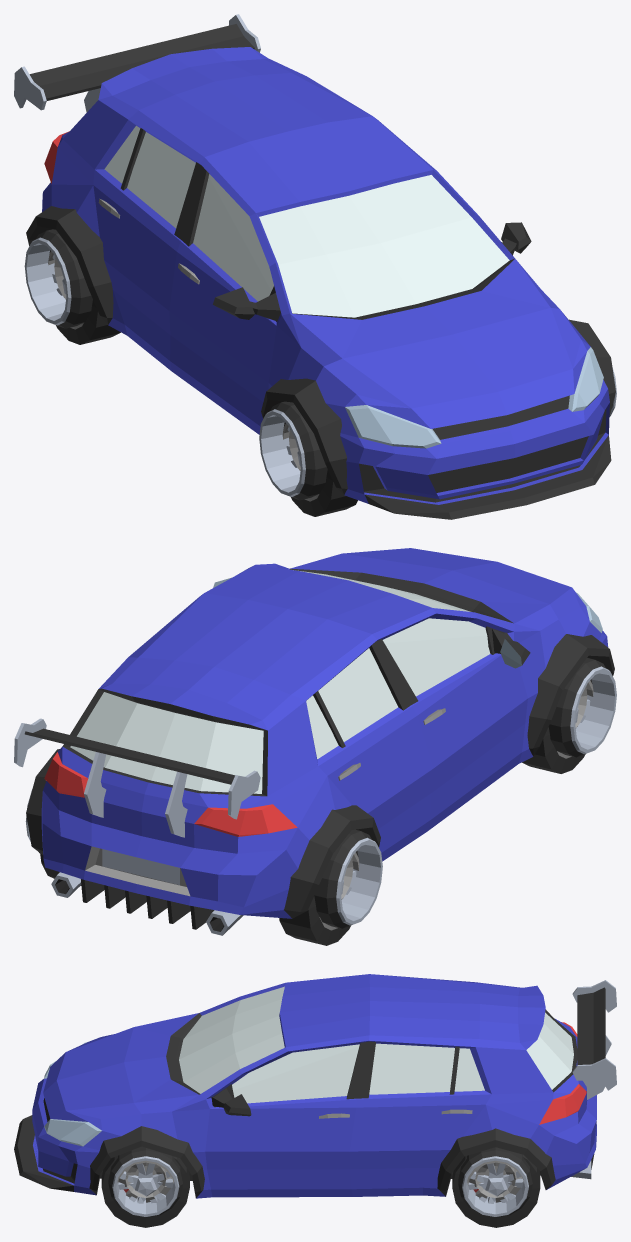
Rendered from golf.fbx.
The picture shows the model from 3 angles, top to bottom: view 1: azimuth 30°, elevation 25°; view 2: azimuth 150°, elevation 25°; view 3: azimuth 270°, elevation 25°; orthographic projection. The views are drawn at different scales.
Parts seen in each view (by area): view 1: golf_body, golf_tuning_1, golf_tuning_wheel_FR, golf_tuning_wheel_RR, golf_wheel_FR, golf_wheel_RR; view 2: golf_body, golf_tuning_1, golf_tuning_wheel_RR, golf_tuning_wheel_FR, golf_wheel_RR, golf_wheel_FR; view 3: golf_body, golf_tuning_1, golf_tuning_wheel_RL, golf_tuning_wheel_FL, golf_wheel_FL, golf_wheel_LR.
Boxes of the visible parts, box(x1,y1,x2,y2) form: golf_body: box(42, 47, 609, 504); golf_tuning_1: box(14, 14, 615, 519); golf_tuning_wheel_FR: box(259, 401, 327, 500); golf_tuning_wheel_RR: box(24, 229, 92, 328); golf_wheel_FR: box(282, 422, 357, 516); golf_wheel_RR: box(48, 250, 120, 344); golf_body: box(41, 548, 608, 935); golf_tuning_1: box(14, 634, 614, 929); golf_tuning_wheel_RR: box(314, 829, 382, 928); golf_tuning_wheel_FR: box(548, 658, 616, 757); golf_wheel_RR: box(279, 851, 359, 945); golf_wheel_FR: box(522, 679, 593, 773); golf_body: box(32, 974, 596, 1198); golf_tuning_1: box(14, 980, 616, 1197); golf_tuning_wheel_RL: box(458, 1147, 532, 1217); golf_tuning_wheel_FL: box(108, 1146, 183, 1217); golf_wheel_FL: box(101, 1156, 189, 1227); golf_wheel_LR: box(452, 1154, 540, 1227).
Bounding box in the file's own units: 3.31 × 1.08 × 1.49.
